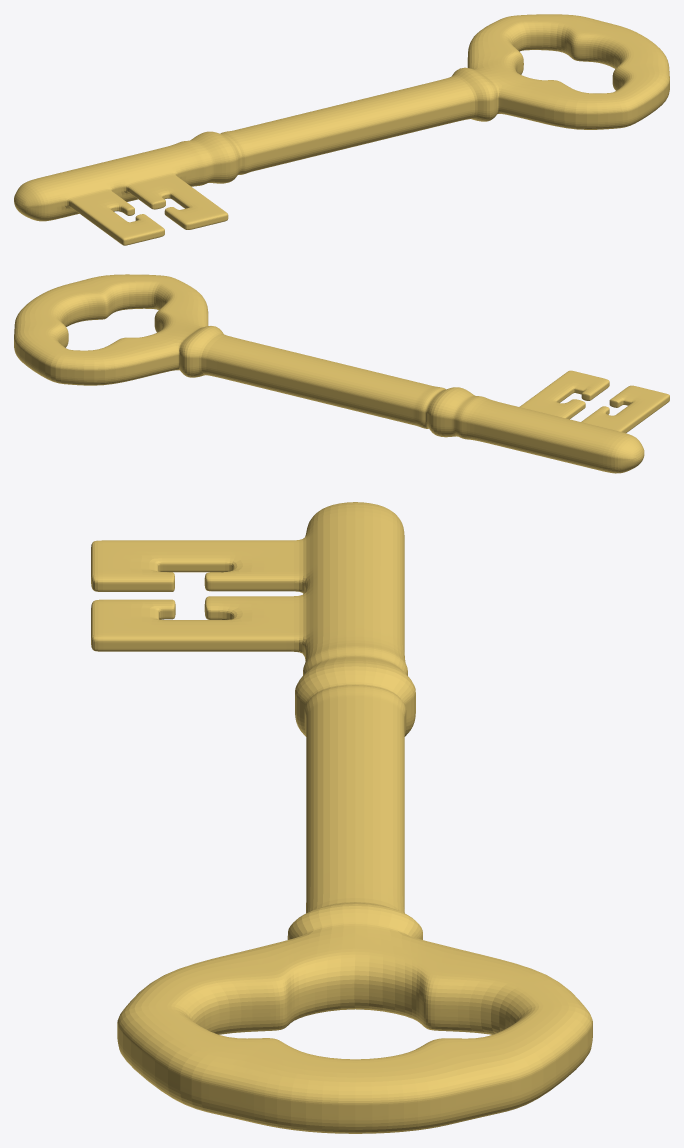
File: desk_key.glb
The picture shows the model from 3 angles, top to bottom: view 1: azimuth 30°, elevation 25°; view 2: azimuth 150°, elevation 25°; view 3: azimuth 270°, elevation 25°; orthographic projection. The views are drawn at different scales.
Parts seen in each view (by area): view 1: Plane; view 2: Plane; view 3: Plane.
Boxes of the visible parts, bbox=[...] form: Plane: bbox=[14, 14, 669, 245]; Plane: bbox=[14, 274, 669, 473]; Plane: bbox=[91, 502, 592, 1133].
Bounding box in the file's own units: 0.4145 × 0.0268 × 0.1472.
